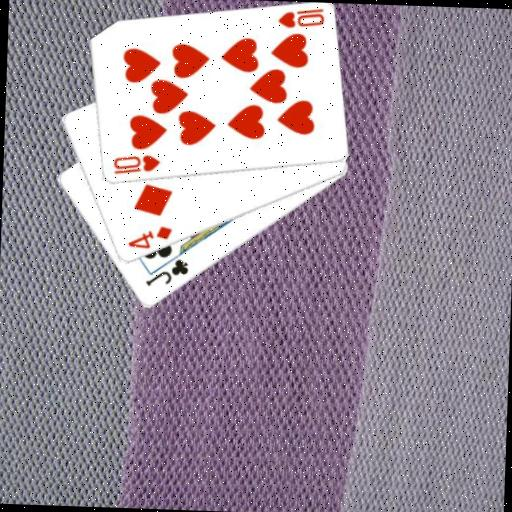10H: (110, 150, 161, 177), (274, 4, 325, 31)
4D: (124, 222, 173, 251)
JC: (142, 255, 191, 290)
